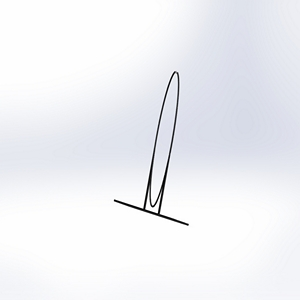circle: (111, 70, 191, 228)
